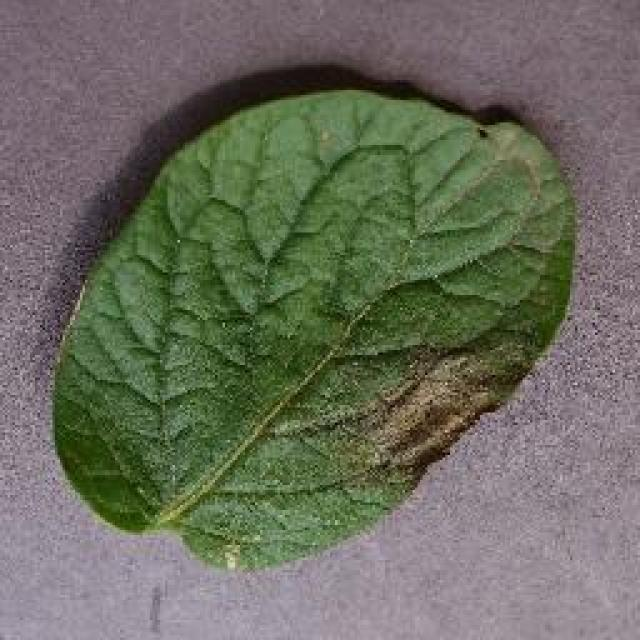late_blight: (45, 80, 580, 575)
